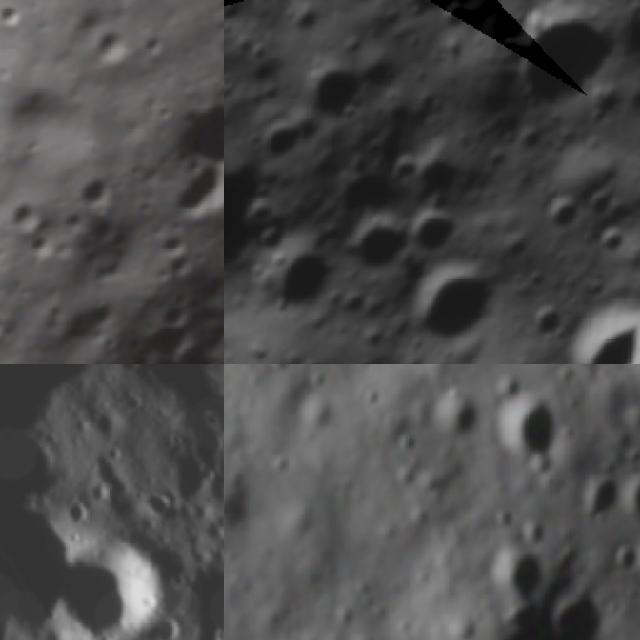crater: (39, 511, 199, 640), (491, 0, 636, 131), (395, 244, 515, 364), (243, 221, 360, 342), (224, 129, 294, 327), (386, 132, 486, 232), (538, 278, 640, 364), (153, 69, 224, 187), (320, 152, 409, 242), (292, 47, 382, 136), (331, 203, 415, 288), (248, 103, 329, 185), (155, 146, 224, 237), (490, 389, 568, 469), (161, 543, 224, 640), (392, 193, 466, 267), (522, 179, 596, 252), (540, 578, 620, 640), (508, 288, 578, 357), (482, 540, 554, 607), (124, 318, 224, 364), (568, 472, 622, 532), (427, 389, 481, 448), (0, 184, 49, 241), (74, 282, 124, 336), (86, 18, 137, 70), (70, 162, 122, 213), (589, 218, 640, 270), (147, 219, 195, 267), (394, 0, 467, 30), (159, 238, 204, 284), (20, 222, 66, 266), (149, 288, 193, 332), (135, 23, 171, 60), (620, 464, 640, 530), (629, 516, 640, 614), (0, 0, 28, 32), (0, 305, 9, 343)
